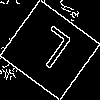L: (25, 24, 74, 78)
